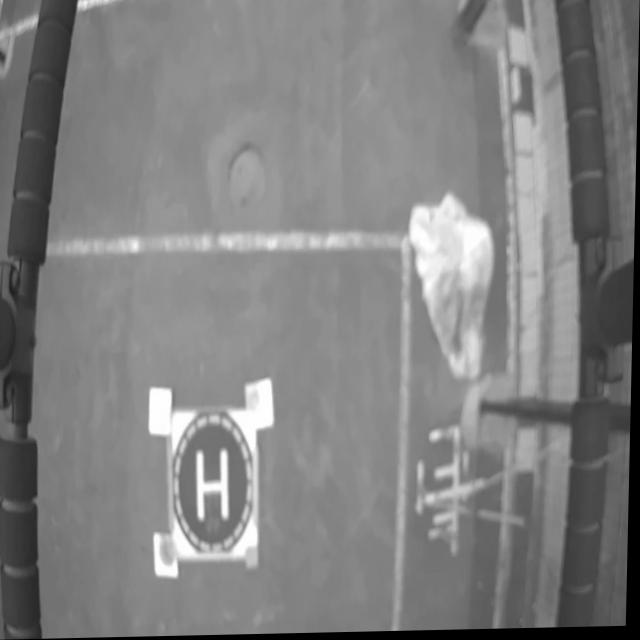Helipad: (198, 450, 231, 524)
